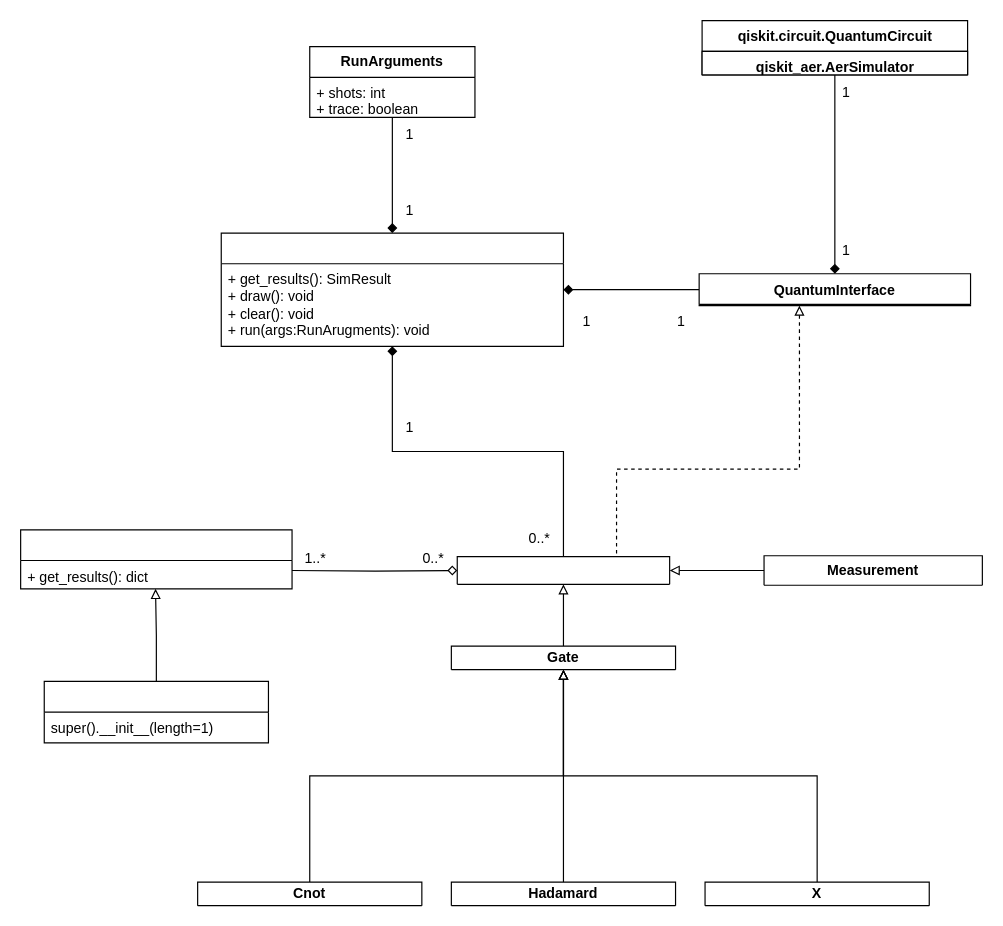
Image size: 1003x926. Some labels were removed from this diagram. The shapes that lost their labels are listed below. From the top down, each one's box as (x1, y1, x2, y2) in pixels, then its label:
(220, 232, 563, 346): QLeap
(19, 529, 292, 589): QState
(456, 555, 670, 584): Operation
(43, 680, 268, 743): Qubit
